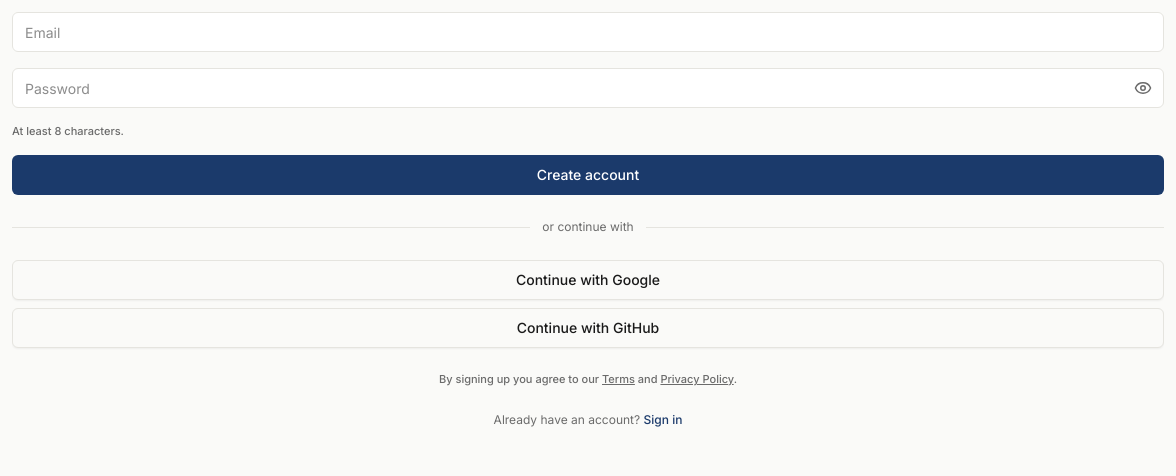
Test: SignupForm › surfaces a Supabase rejection
The image size is (1176, 476).
Type "analyst@fund.test" into the field with placeholder "Email" at (588, 32), box [12,12,1164,52]
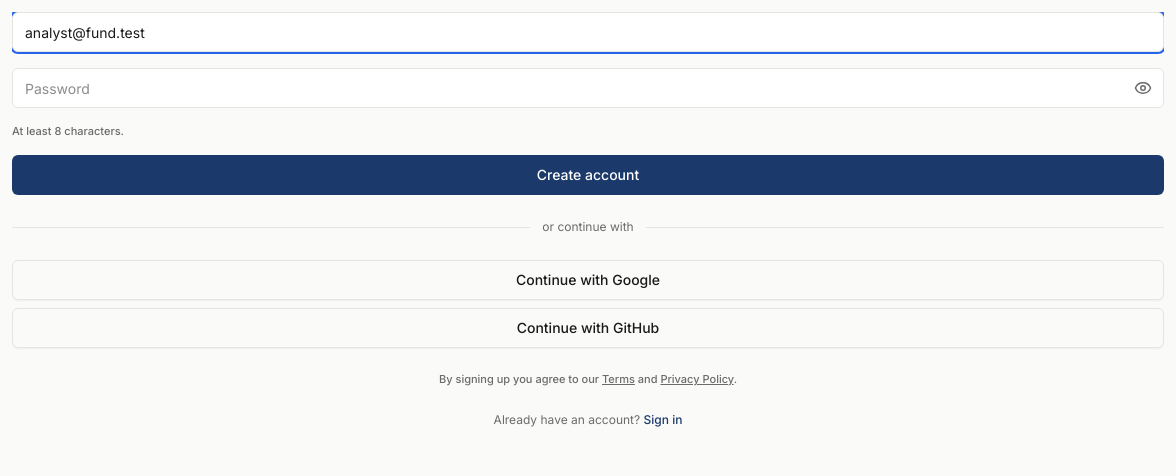
Type "a-strong-passphrase" into the password field with placeholder "Password" at (588, 88), box [12,68,1164,108]
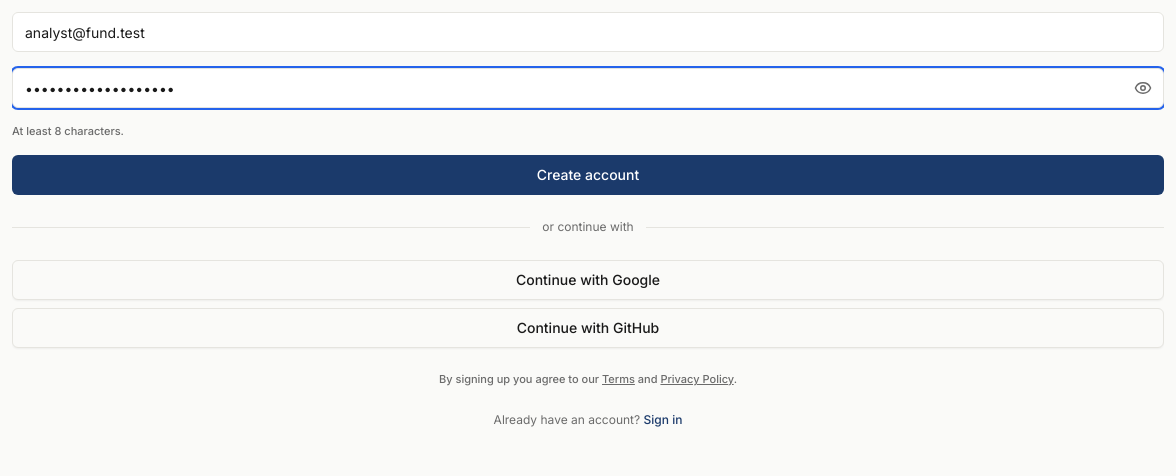
Click the button "Create account" at (588, 175), box [12,155,1164,195]
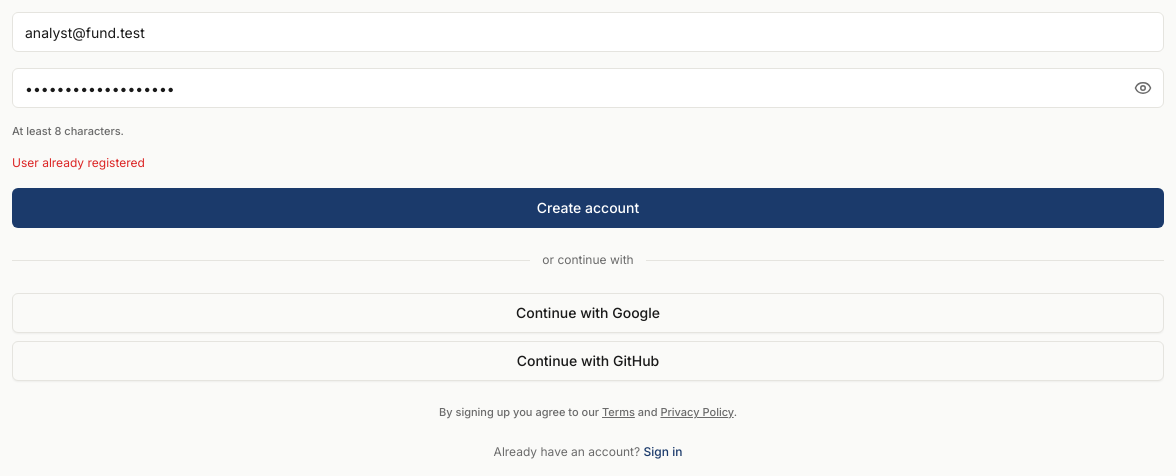
Now the text "User already registered" is shown, box [12,155,145,170]
